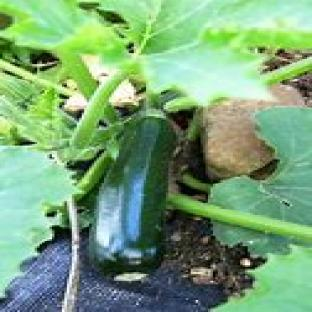Zucchini: (90, 111, 175, 273)
